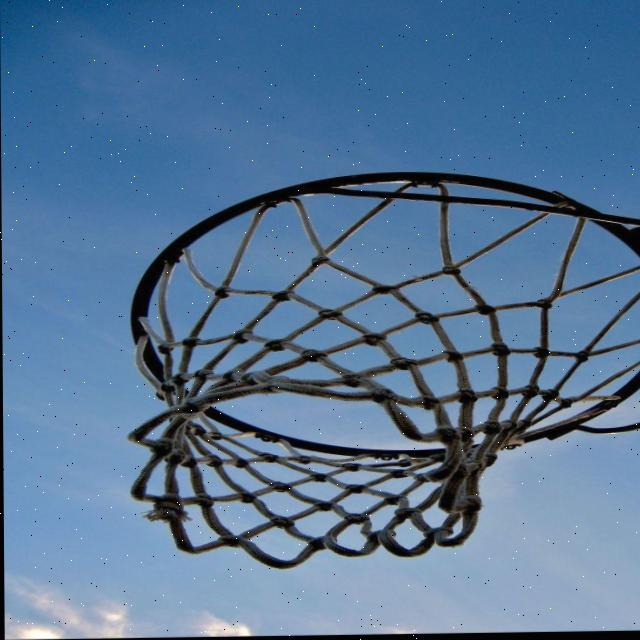hoop: (145, 188, 640, 529)
